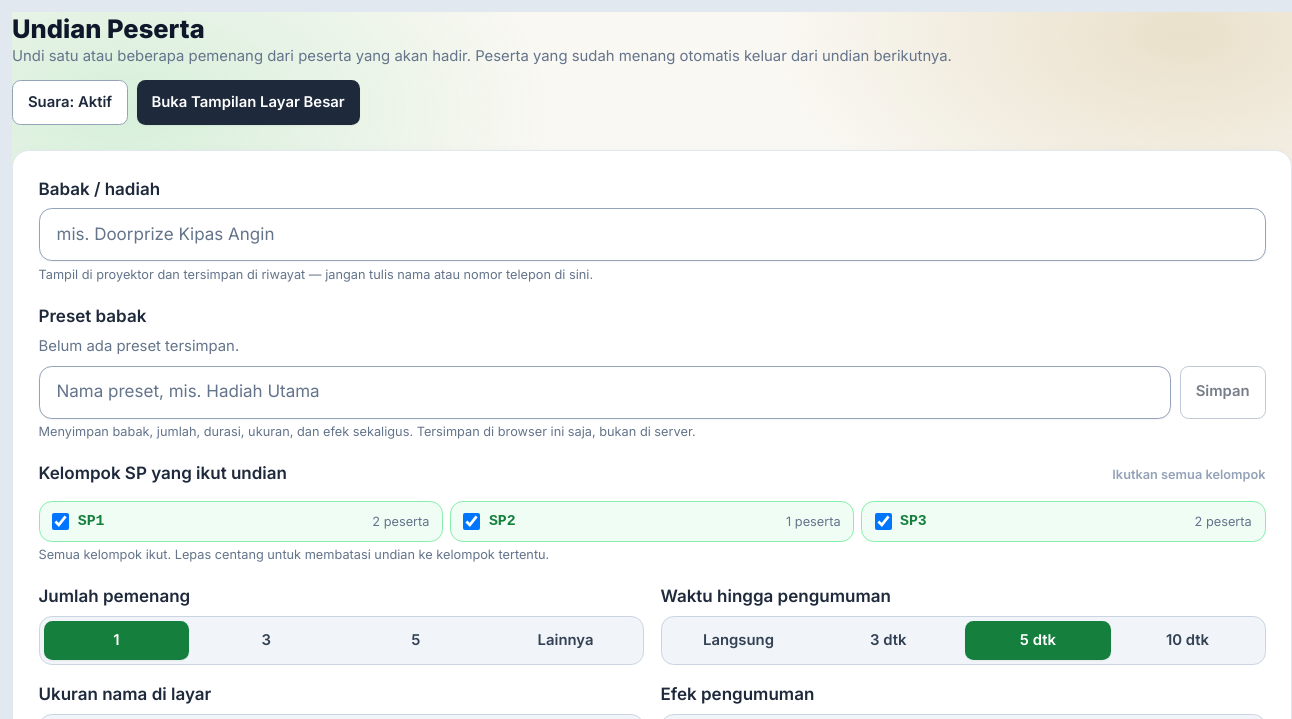
Test: LotteryControlPage — filter kelompok SP › mengecilkan undian ke kelompok yang masih tercentang
Click the checkbox labelled "SP3 2 peserta" at (883, 522), box [874,513,892,530]
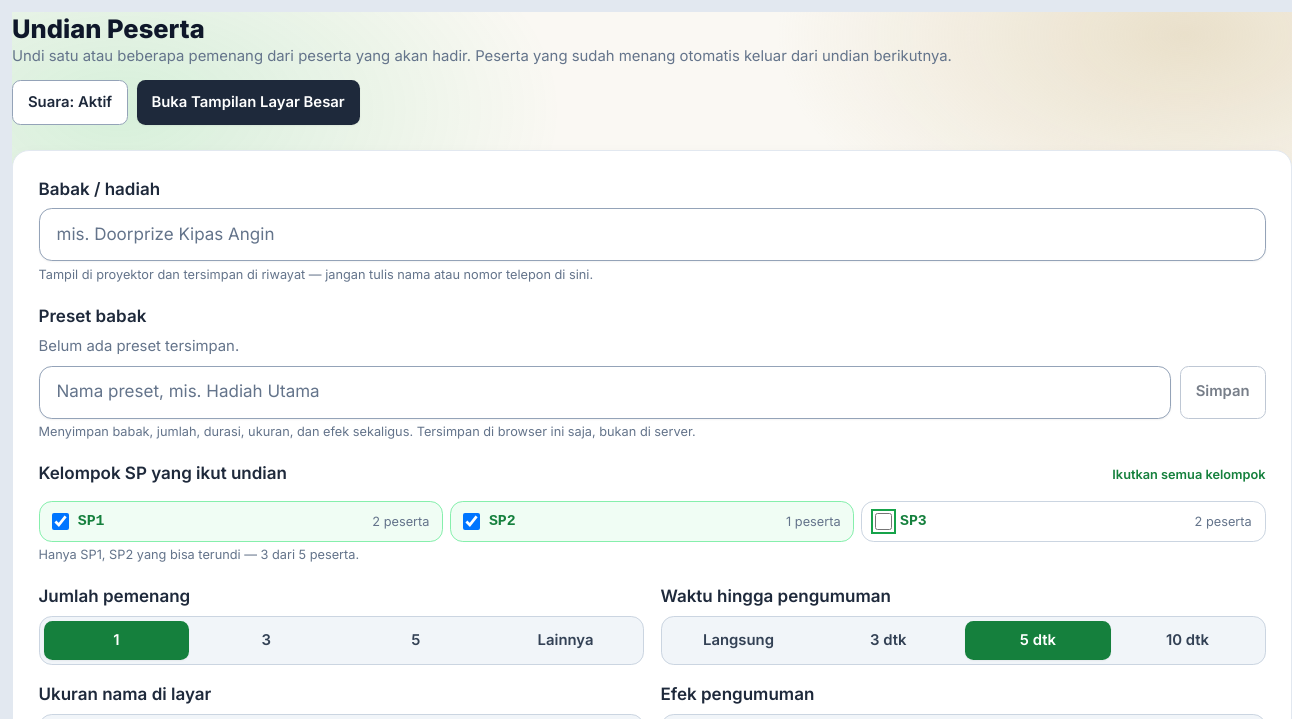
Check: the checkbox labelled "SP3 2 peserta" is not checked, box [874,513,892,530]
Check: the text "Hanya SP1, SP2 yang bisa terundi — 3 dari 5 peserta." is shown, box [38,547,359,562]
